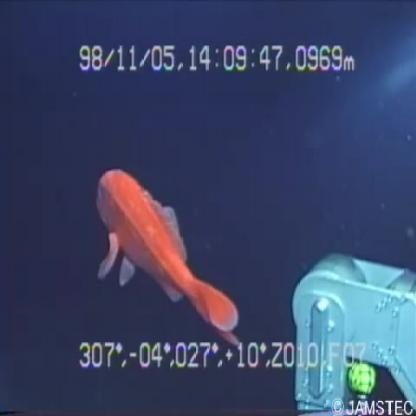Bio: (90, 163, 244, 351)
Rov: (286, 244, 416, 415)
